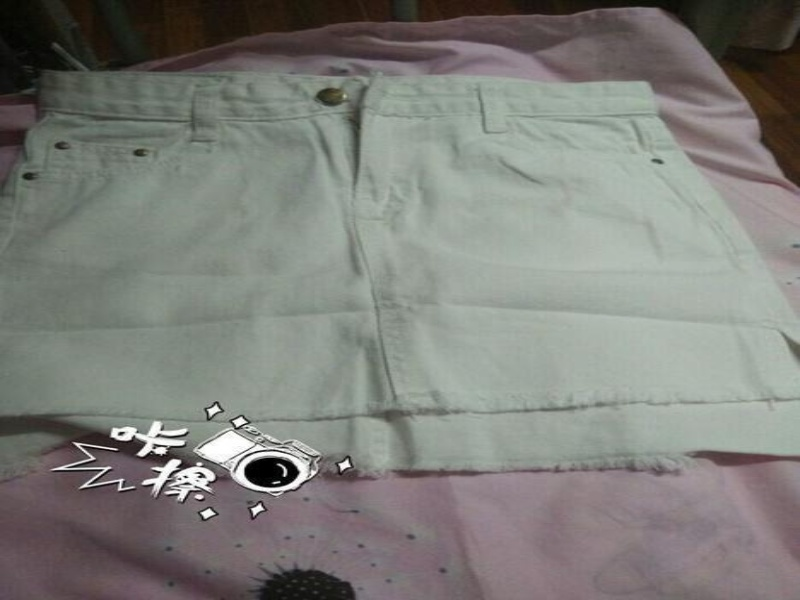skirt: (0, 69, 798, 488)
